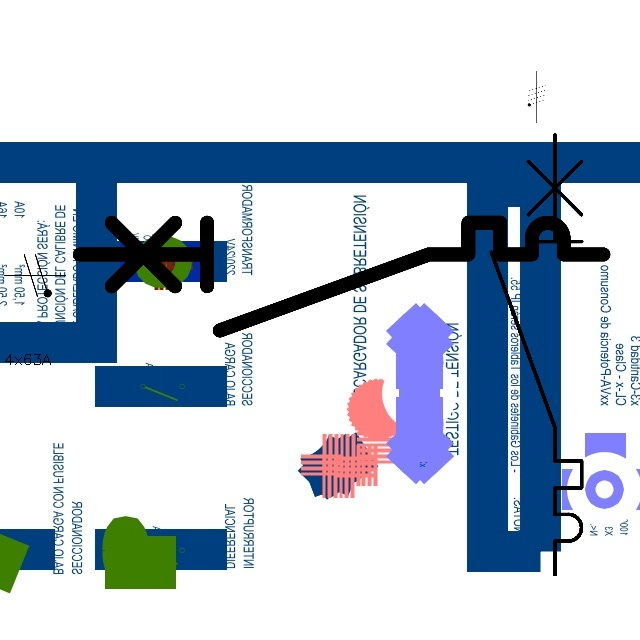interruptor_termomagnetico: (66, 209, 617, 344), (480, 123, 593, 585)
